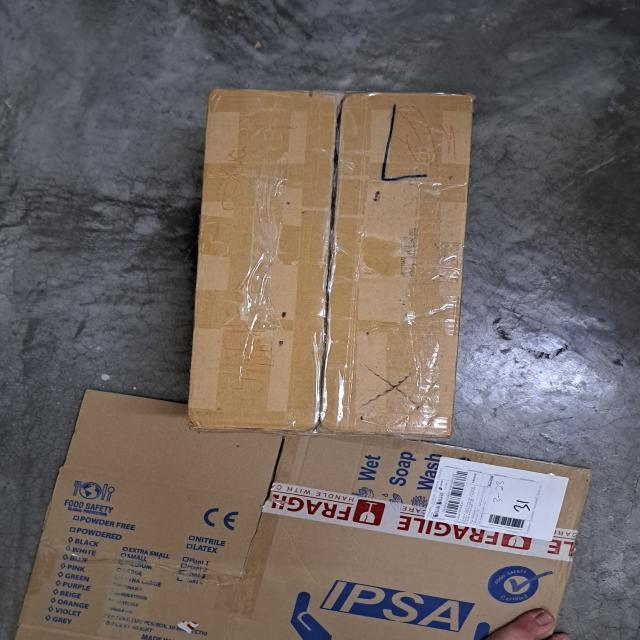cardboard: (17, 389, 594, 640), (183, 86, 475, 437)
